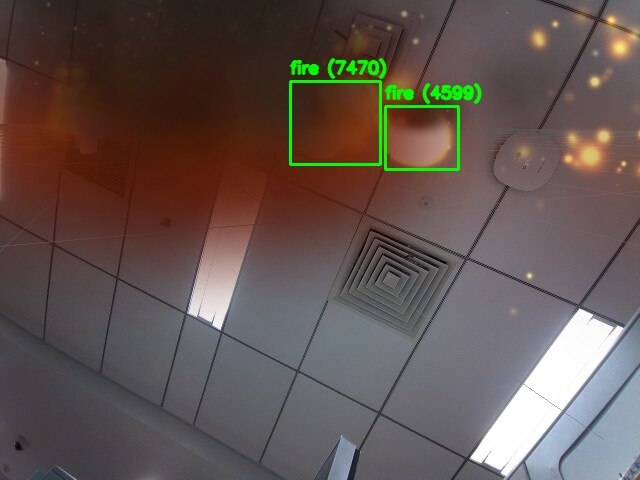fire: (290, 81, 380, 164), (385, 106, 458, 169)
